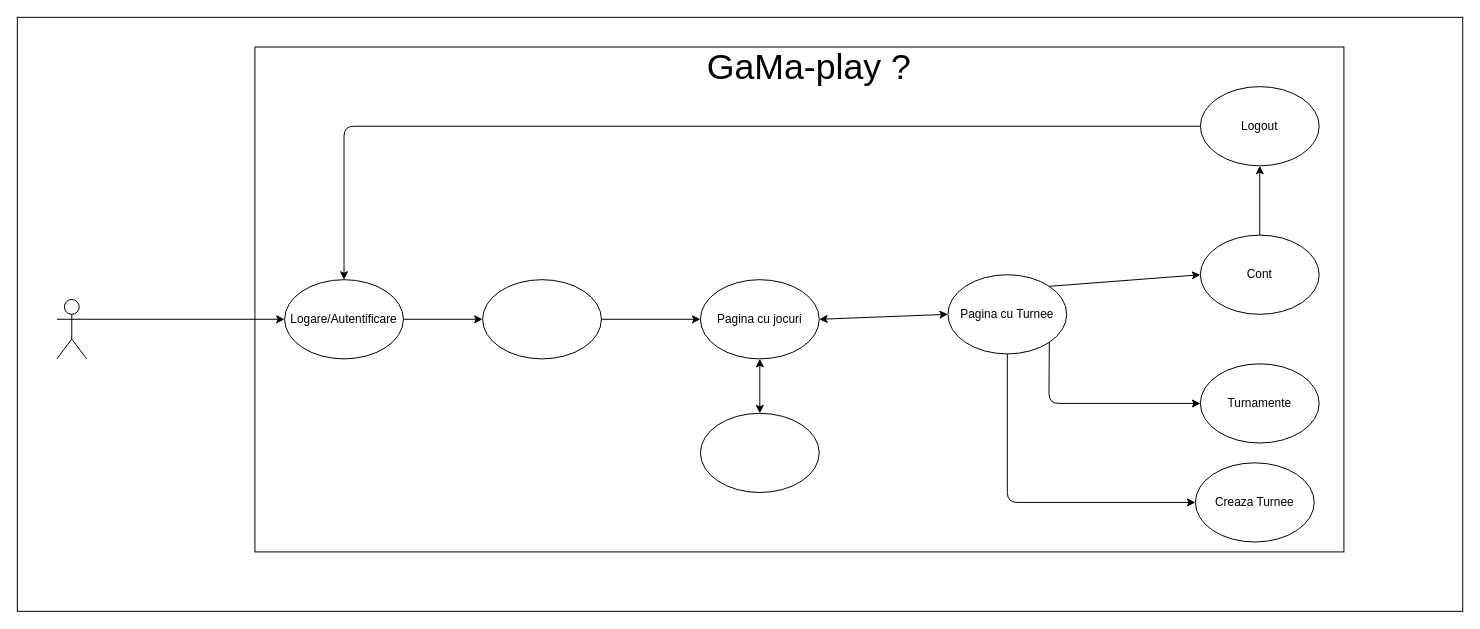
The diagram is 1480 pixels wide and 629 high, and some of its shapes have lost their labels. Each missing label, with the centre of its shape:
"Afisare Caseta Inchisa" belongs at pixel 541 319.
"Informatii Joc" belongs at pixel 759 452.
"Utilizator" belongs at pixel 71 328.
